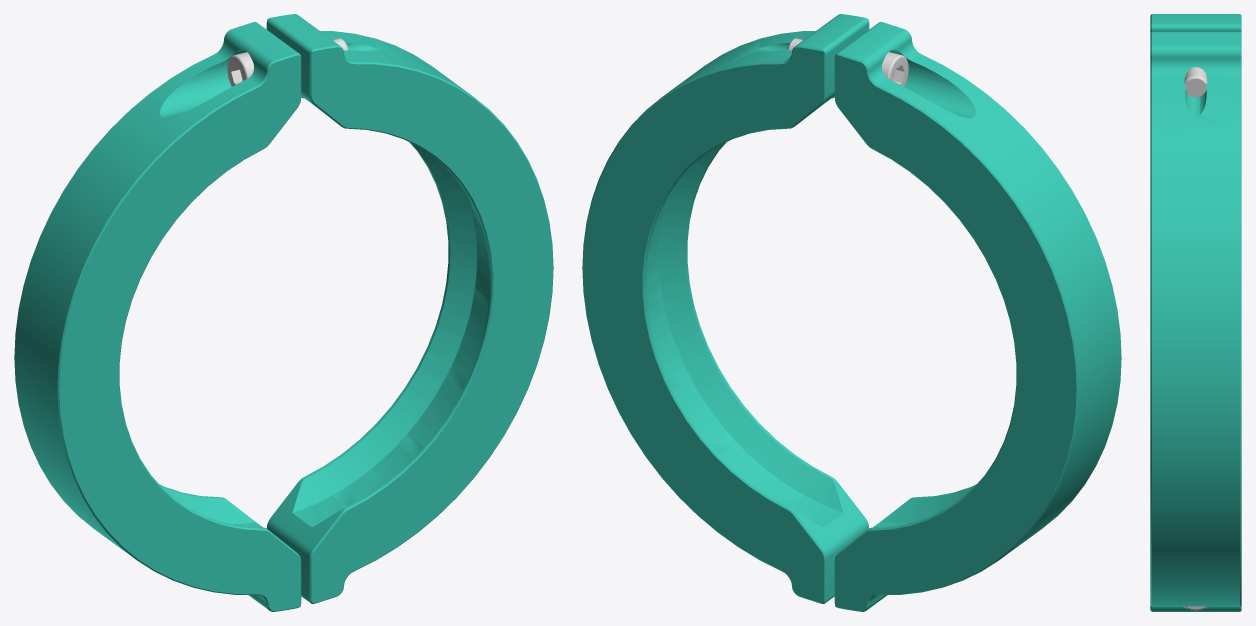
3 views of the same model, side by side, from view 1: azimuth 30°, elevation 25°; view 2: azimuth 150°, elevation 25°; view 3: azimuth 270°, elevation 25° (orthographic). The views are drawn at different scales.
Visible parts, largest first — view 1: C116; view 2: C116; view 3: C116.
Boxes of the visible parts, x1,y1,x2,y2 form: C116: (14,14,553,611); C116: (582,14,1121,611); C116: (1150,14,1241,611).
Bounding box in the file's own units: 0.116 × 0.1239 × 0.018.
